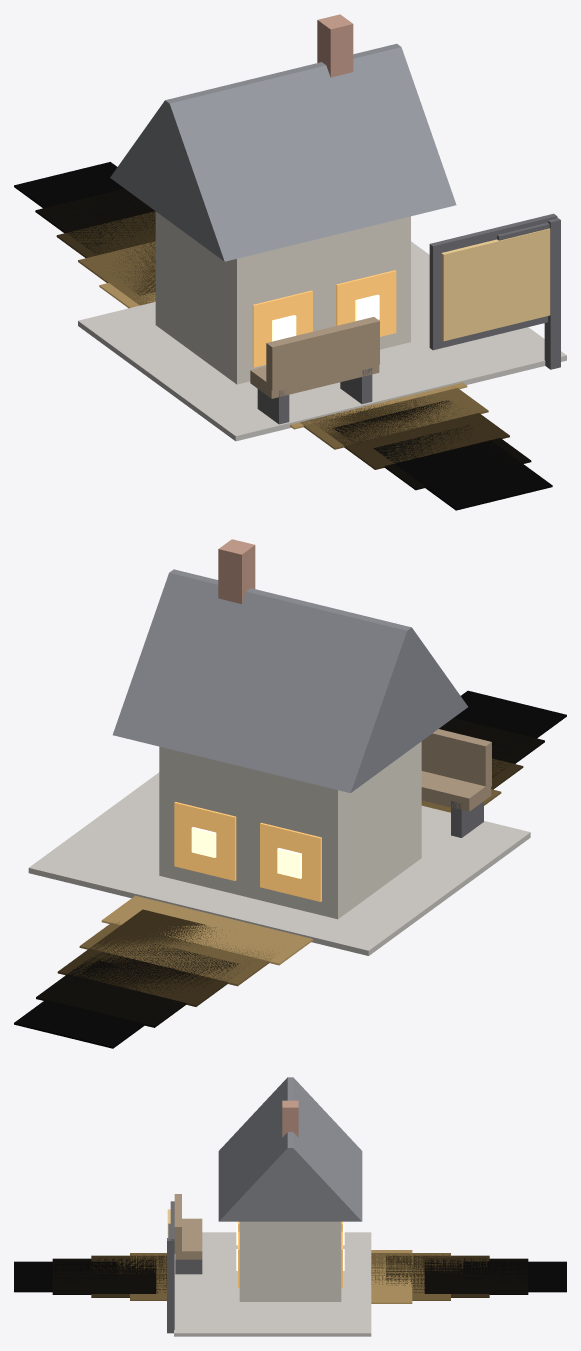
Rendered from plc_pub.glb.
3 renders of one model, top to bottom at view 1: azimuth 30°, elevation 25°; view 2: azimuth 150°, elevation 25°; view 3: azimuth 270°, elevation 25°, orthographic. The views are drawn at different scales.
Visible parts, largest first — view 1: plc_pub; view 2: plc_pub; view 3: plc_pub.
Part boxes in pixels (x1=…): plc_pub: x1=14, y1=14, x2=566, y2=510; plc_pub: x1=14, y1=539, x2=566, y2=1048; plc_pub: x1=14, y1=1077, x2=566, y2=1336.
Size of the model in its own units: 1.36 by 1.19 by 3.14.
